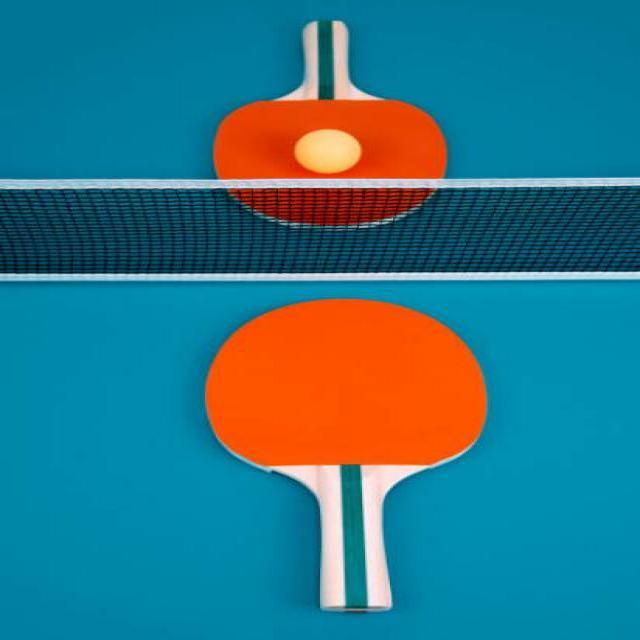oball: (294, 130, 365, 176)
